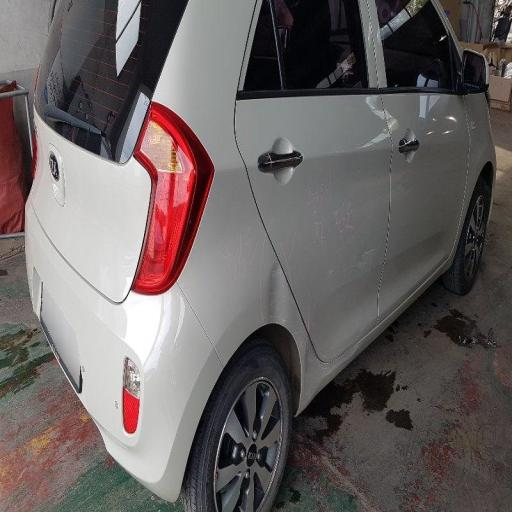dent: (243, 242, 312, 338)
scratch: (181, 19, 485, 93), (294, 197, 392, 305)
